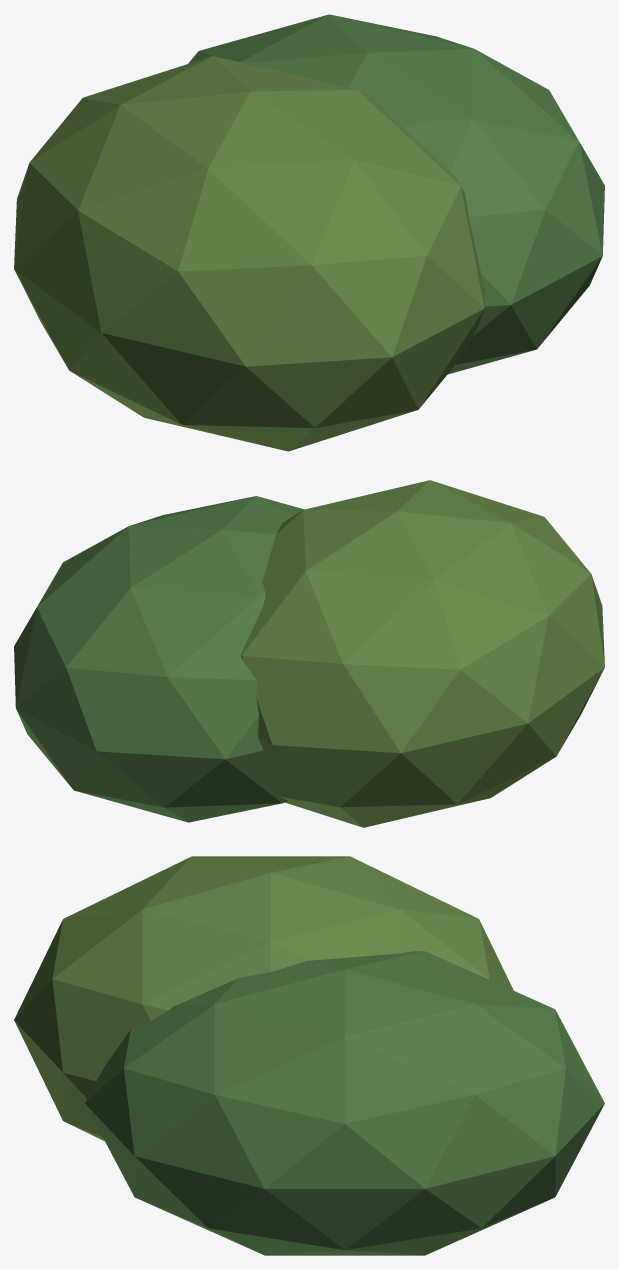
File: bush.glb
3 views of the same model, one above another, from view 1: azimuth 30°, elevation 25°; view 2: azimuth 150°, elevation 25°; view 3: azimuth 270°, elevation 25° (orthographic). The views are drawn at different scales.
Visible parts, largest first — view 1: bush; view 2: bush; view 3: bush.
Part boxes in pixels (bbox=[...]): bush: bbox=[14, 14, 604, 451]; bush: bbox=[14, 480, 604, 827]; bush: bbox=[14, 856, 604, 1255].
Size of the model in its own units: 1.93 by 1.1 by 2.
